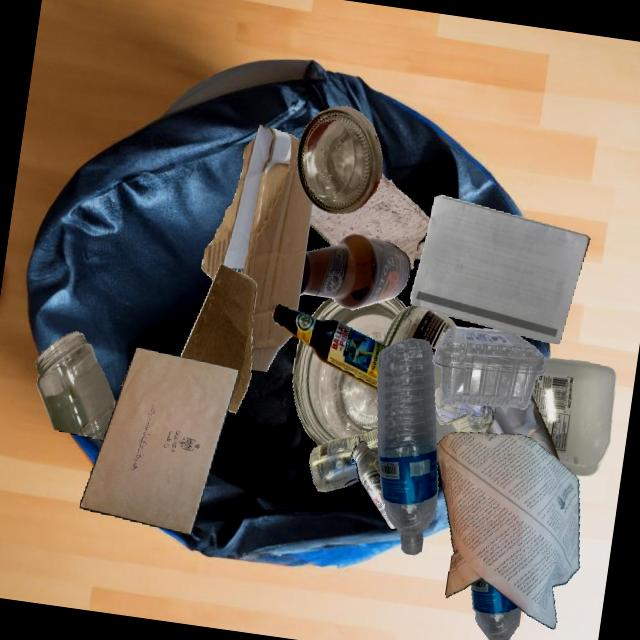biowaste: (121, 365, 130, 386)
cardboard: (201, 125, 313, 372), (180, 264, 257, 413)
glass: (272, 304, 387, 391), (297, 106, 383, 213), (293, 340, 378, 446), (35, 331, 116, 440), (300, 233, 410, 310), (311, 296, 406, 344), (382, 305, 457, 357)
metal: (351, 441, 396, 530)
paper: (80, 348, 239, 535), (436, 432, 579, 629), (410, 195, 590, 344), (310, 173, 430, 270), (486, 395, 560, 461), (435, 389, 497, 433), (436, 390, 486, 433)
plastic: (378, 338, 438, 555), (432, 326, 548, 415), (435, 384, 563, 464), (531, 357, 616, 471), (310, 429, 378, 492), (471, 579, 521, 640)
